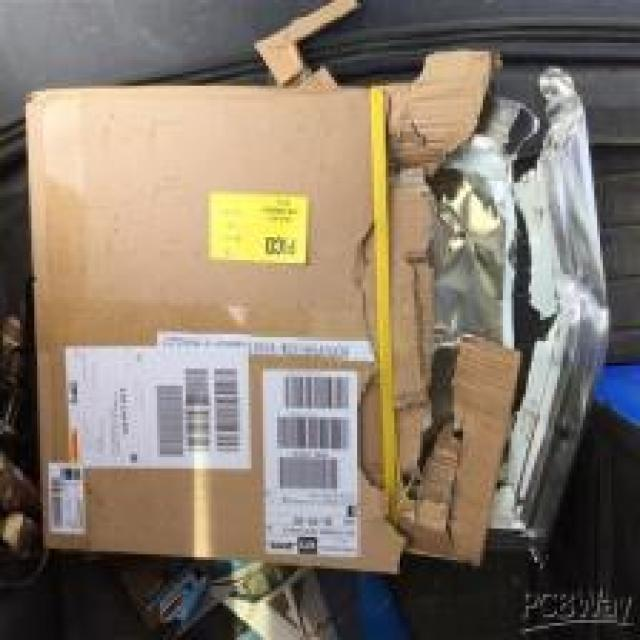box: (12, 30, 619, 463)
